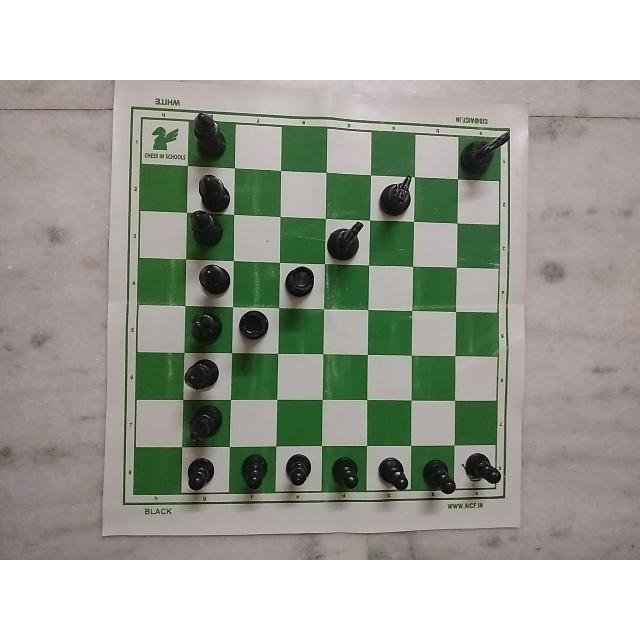black-bishop: (186, 105, 230, 161), (188, 400, 230, 454), (191, 172, 235, 218), (182, 353, 226, 392), (188, 208, 224, 255), (190, 261, 234, 297), (188, 311, 222, 353)
black-knight: (460, 128, 514, 177), (374, 172, 418, 217), (327, 217, 366, 263)
black-pawn: (275, 451, 321, 493), (459, 455, 509, 493), (424, 460, 466, 504), (236, 449, 276, 494), (373, 451, 411, 498), (184, 451, 224, 494), (328, 454, 368, 492)
black-rook: (229, 307, 283, 353), (279, 261, 327, 305)
